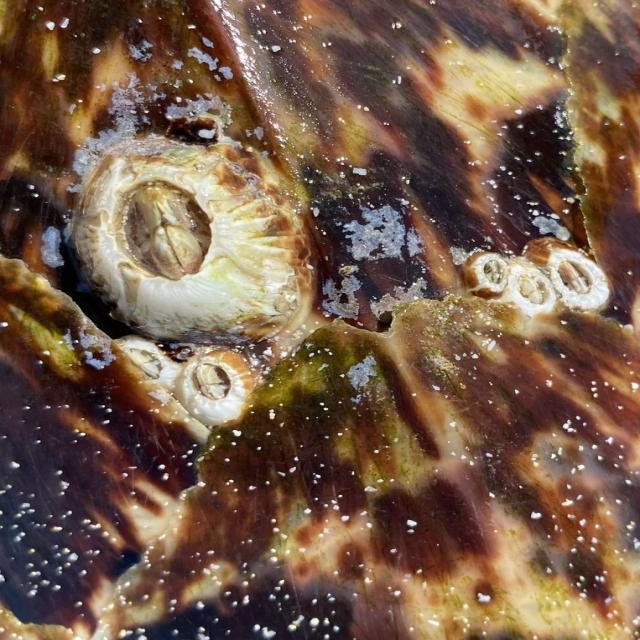barnacles: (70, 124, 294, 332), (532, 230, 616, 322), (182, 354, 278, 434)
